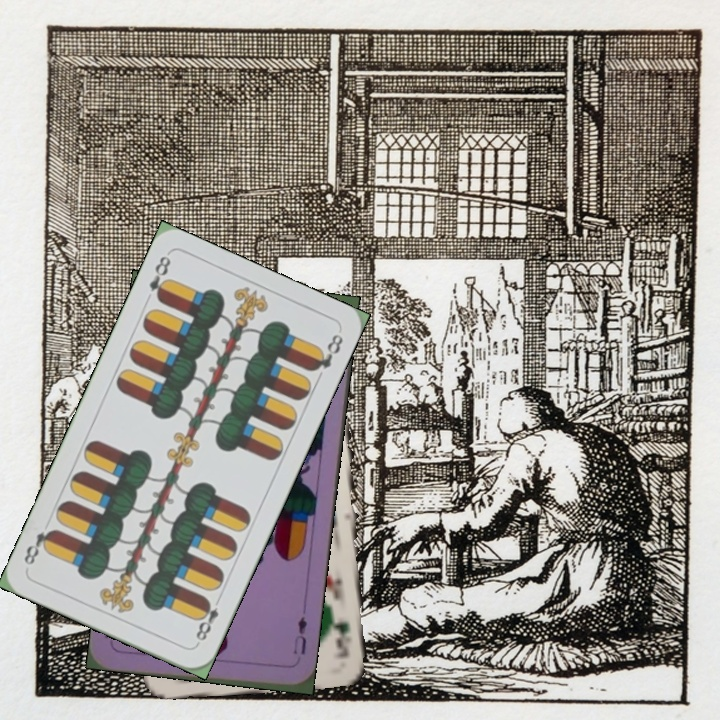E8: (191, 592, 224, 648), (145, 251, 174, 304)
EU: (289, 612, 310, 657)
GK: (331, 617, 353, 661)
